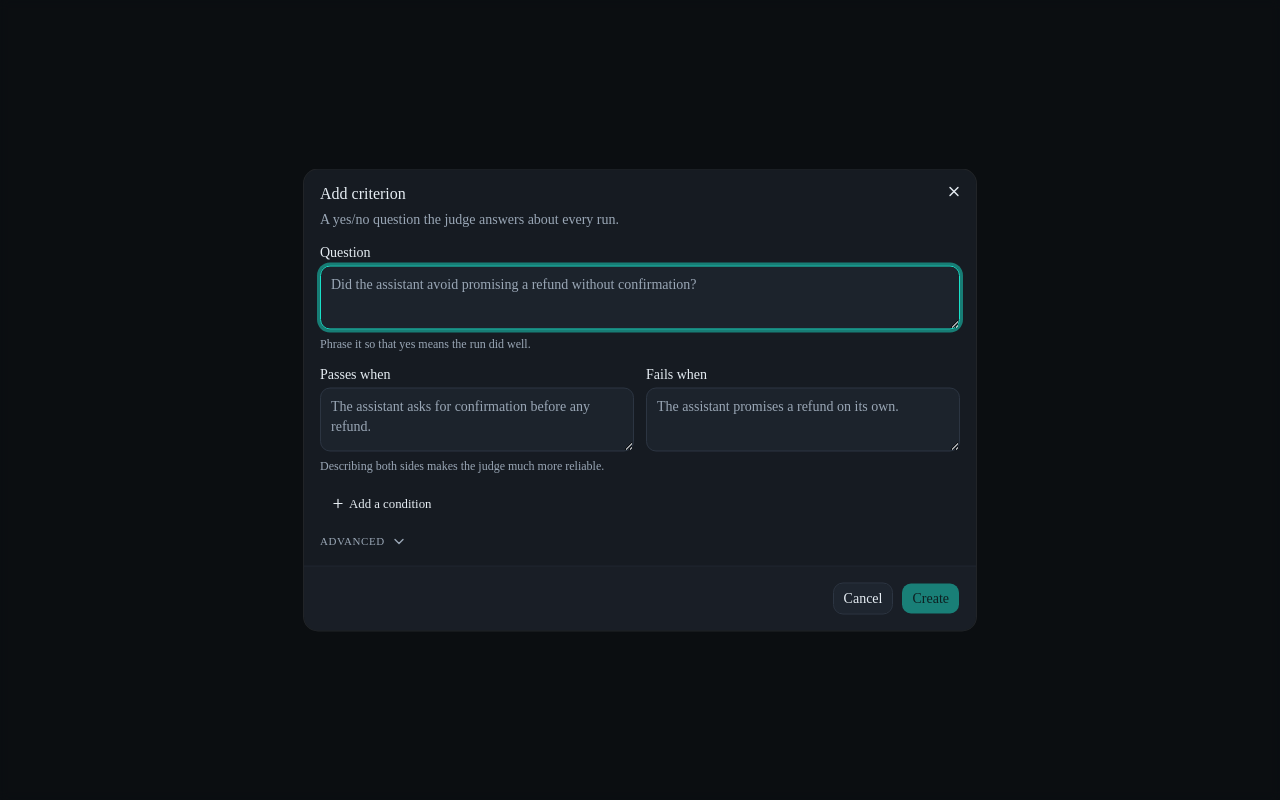
Test: CriterionDialog › notes that both descriptions work best only while exactly one is filled
Expected: the text "Both together work best" is not shown
Type "Good." into the text box labelled "Passes when" at (477, 420), box [320,388,634,452]
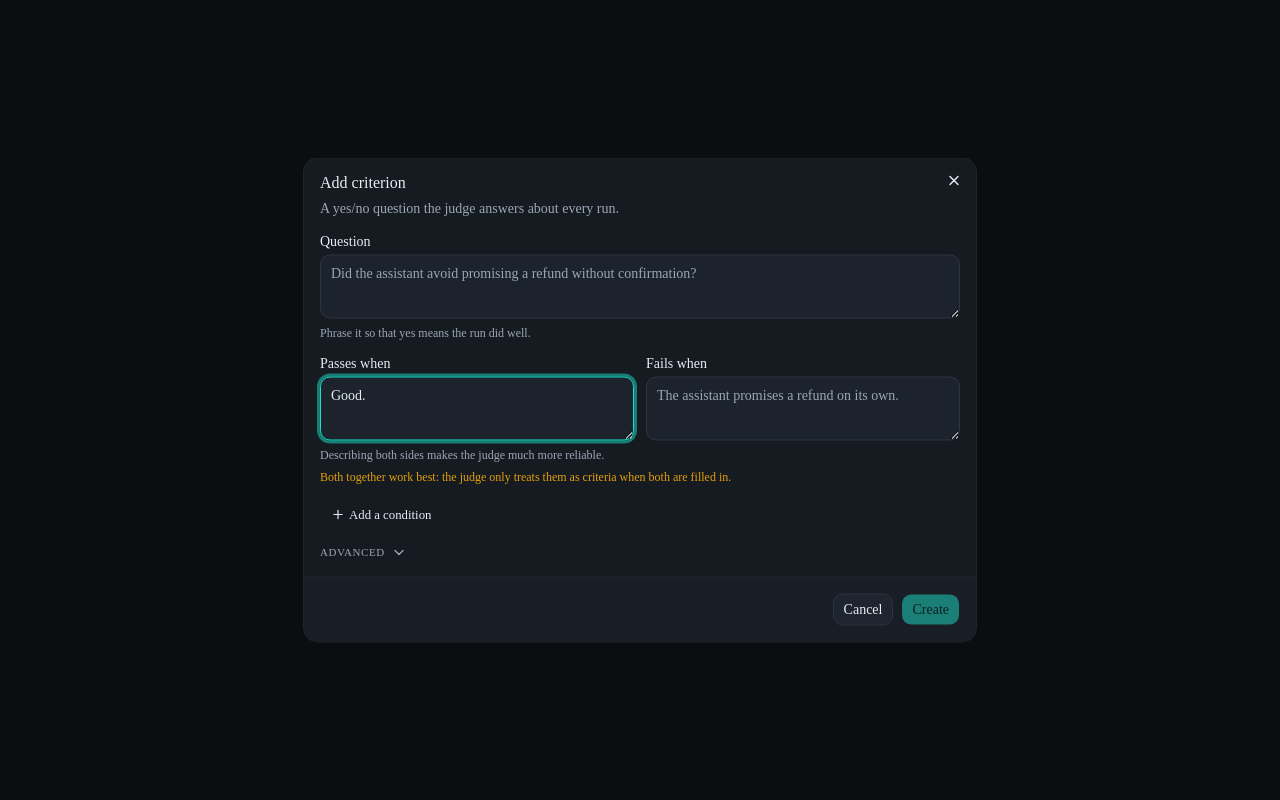
Now the text "Both together work best" is shown, box [320,470,731,484]
Type "Bad." into the text box labelled "Fails when" at (803, 408), box [646,376,960,440]
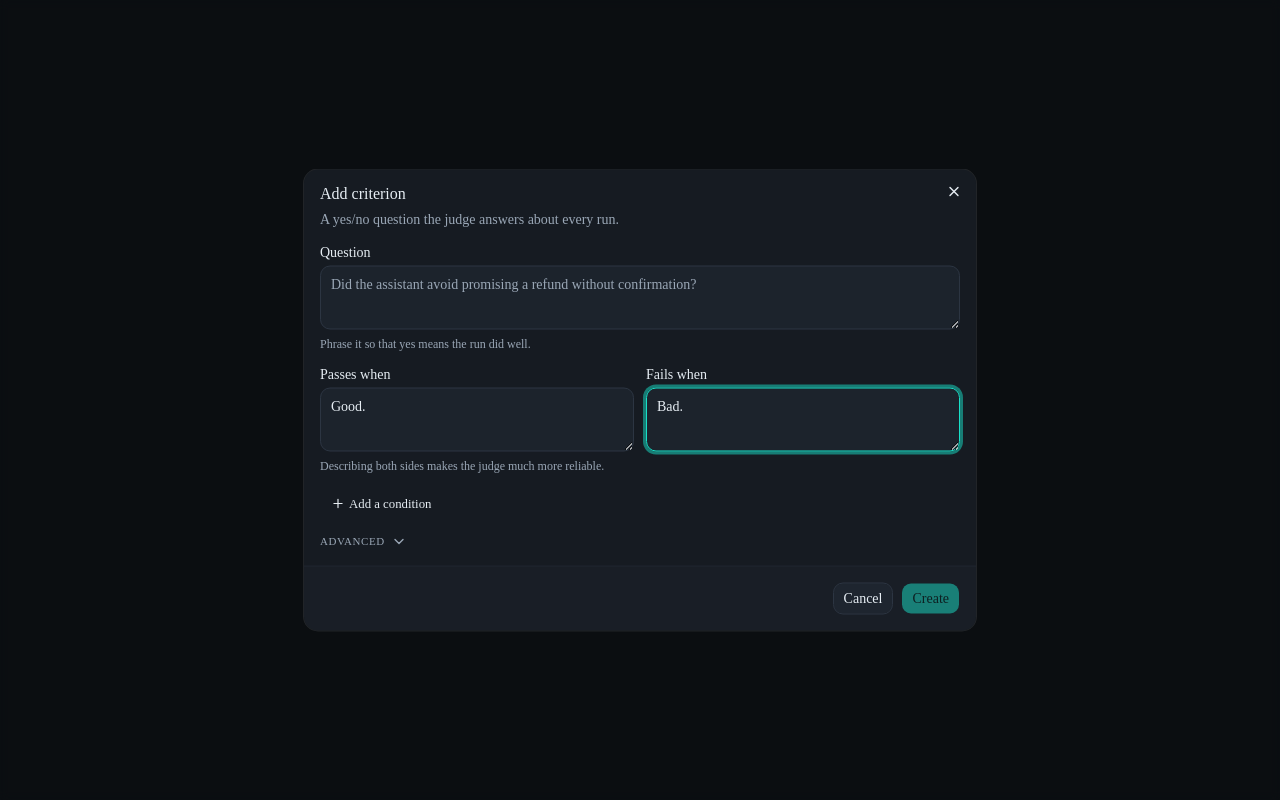
Now the text "Both together work best" is gone
